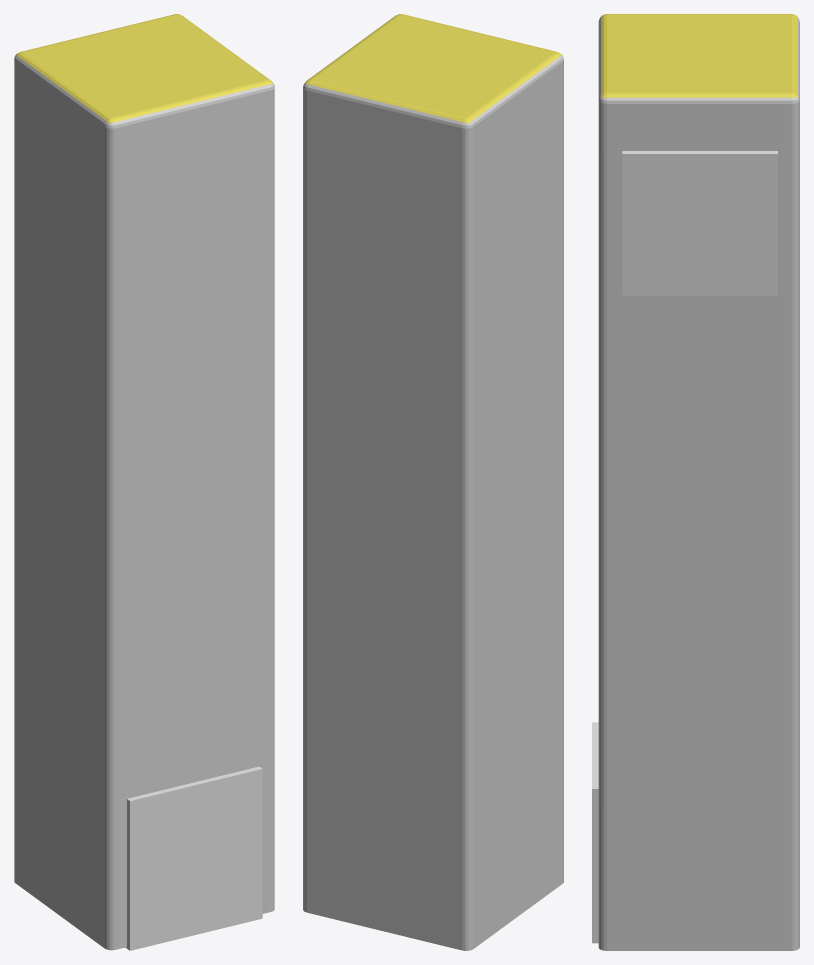
The model's file is SM_Fishiville_OpenBuilding_002.fbx.
The picture shows the model from 3 angles, left to right: view 1: azimuth 30°, elevation 25°; view 2: azimuth 150°, elevation 25°; view 3: azimuth 270°, elevation 25°; orthographic projection. The views are drawn at different scales.
Visible parts, largest first — view 1: Building_002.002, Cube.082, Cube.080, Cube.077, Cube.079, Cube.078, Cube.081, Cube.076; view 2: Building_002.002; view 3: Building_002.002, Cube.075, Cube.082.
Part boxes in pixels (x1=…): Building_002.002: x1=14, y1=14, x2=274, y2=950; Cube.082: x1=125, y1=766, x2=262, y2=950; Cube.080: x1=169, y1=796, x2=218, y2=870; Cube.077: x1=169, y1=868, x2=218, y2=940; Cube.079: x1=223, y1=787, x2=255, y2=857; Cube.078: x1=223, y1=859, x2=255, y2=921; Cube.081: x1=138, y1=809, x2=163, y2=878; Cube.076: x1=138, y1=881, x2=163, y2=942; Building_002.002: x1=303, y1=14, x2=563, y2=950; Building_002.002: x1=598, y1=14, x2=799, y2=950; Cube.075: x1=622, y1=151, x2=777, y2=295; Cube.082: x1=592, y1=722, x2=598, y2=943.
Bounding box in the file's own units: 728 × 3306 × 727.
